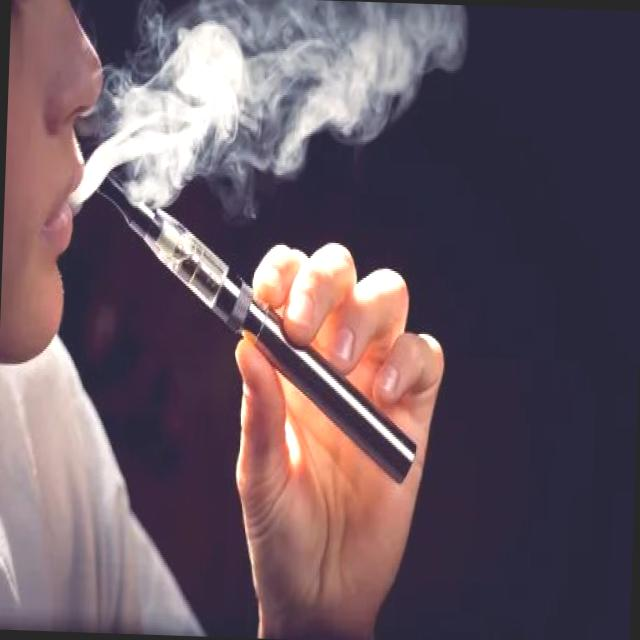smoke: (82, 158, 430, 488)
